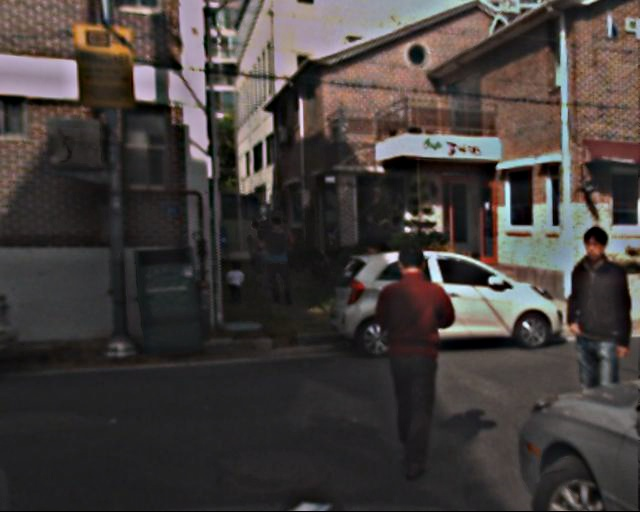person: (365, 248, 459, 475), (549, 228, 640, 449), (259, 216, 297, 305), (244, 219, 271, 283), (226, 257, 246, 309)
